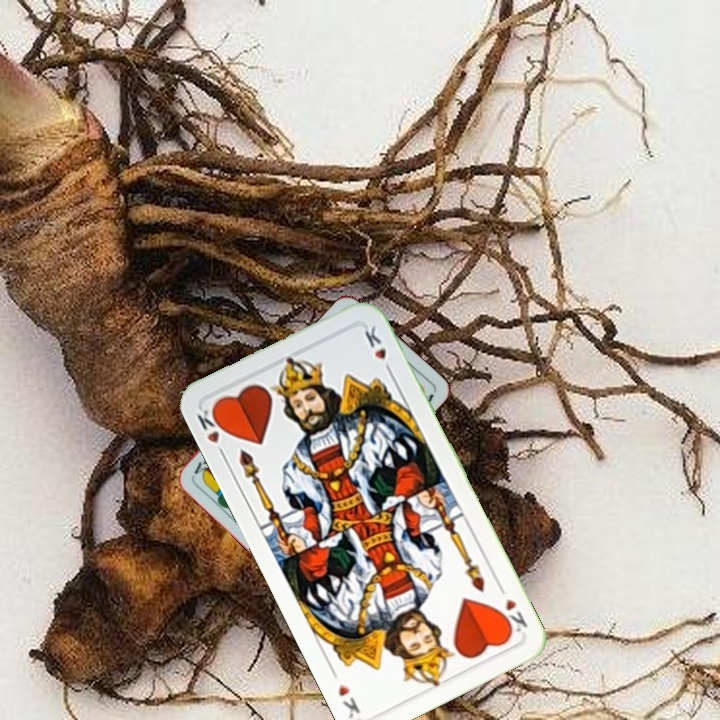HK: (493, 580, 530, 637), (193, 402, 230, 446)
